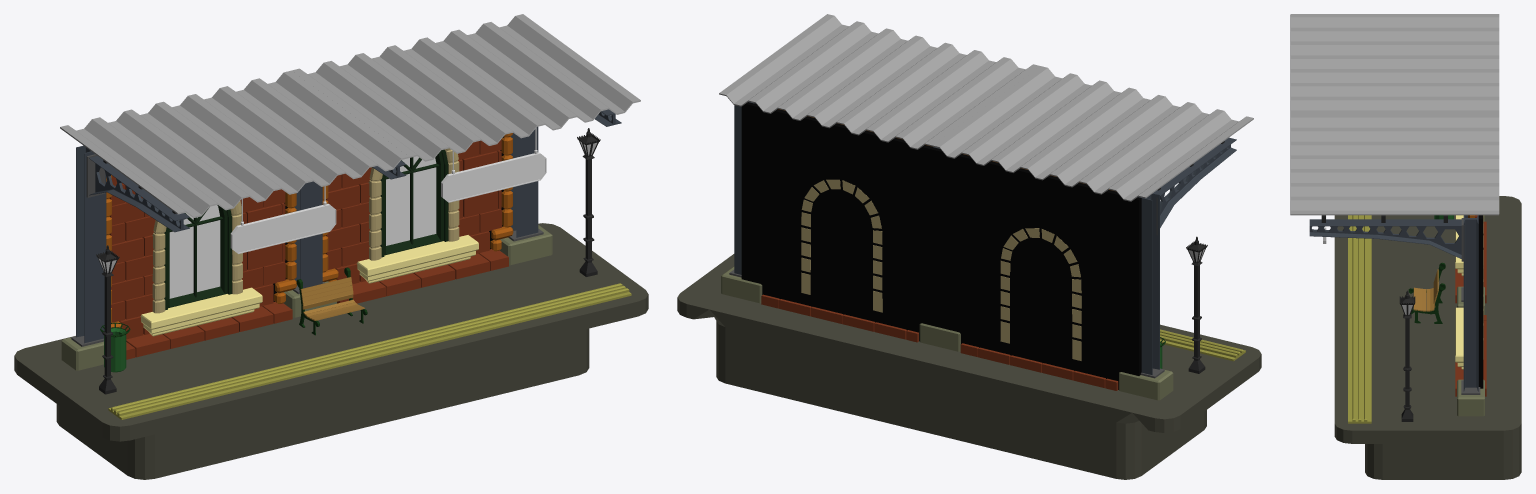
The model's file is istasyon_revize.fbx.
3 renders of one model, left to right at view 1: azimuth 30°, elevation 25°; view 2: azimuth 150°, elevation 25°; view 3: azimuth 270°, elevation 25°, orthographic. The views are drawn at different scales.
Visible parts, largest first — view 1: Plane.001, Plane, Cube, Cube.013, Cube.014, Cube.001, Cube.026, Plane.002, Cube.003, Cube.091, Cube.075, Cube.077 (+17 smaller); view 2: Cube.011, Cube.010, Cube.013, Plane.001, Plane, Cube, Cube.003, Cube.072, Cube.297, Cube.001, Cube.026, Cube.123 (+6 smaller); view 3: Cube, Plane, Plane.001, Cube.123, Cube.013, Plane.002, Cube.014, Cube.010, Cube.017, Cube.018, Cube.034, Cube.077 (+3 smaller).
Boxes of the visible parts, x1=… form: Plane.001: x1=60, y1=70, x2=409, y2=217; Plane: x1=292, y1=14, x2=640, y2=161; Cube: x1=14, y1=223, x2=637, y2=431; Cube.013: x1=56, y1=328, x2=589, y2=479; Cube.014: x1=95, y1=284, x2=648, y2=441; Cube.001: x1=109, y1=175, x2=292, y2=359; Cube.026: x1=326, y1=139, x2=508, y2=303; Plane.002: x1=108, y1=283, x2=631, y2=419; Cube.003: x1=71, y1=145, x2=189, y2=346; Cube.091: x1=169, y1=205, x2=220, y2=298; Cube.075: x1=386, y1=156, x2=436, y2=245; Cube.077: x1=356, y1=235, x2=478, y2=283; Cube.011: x1=940, y1=150, x2=1141, y2=389; Cube.010: x1=741, y1=102, x2=941, y2=341; Cube.013: x1=716, y1=321, x2=1206, y2=479; Plane.001: x1=932, y1=66, x2=1253, y2=201; Plane: x1=719, y1=14, x2=1039, y2=149; Cube: x1=677, y1=254, x2=1252, y2=432; Cube.003: x1=1138, y1=137, x2=1236, y2=378; Cube.072: x1=801, y1=179, x2=882, y2=312; Cube.297: x1=1000, y1=228, x2=1081, y2=360; Cube.001: x1=960, y1=343, x2=1118, y2=390; Cube.026: x1=761, y1=294, x2=918, y2=342; Cube.123: x1=729, y1=101, x2=755, y2=277; Cube: x1=1365, y1=196, x2=1521, y2=443; Plane: x1=1290, y1=114, x2=1499, y2=215; Plane.001: x1=1290, y1=14, x2=1499, y2=114; Cube.123: x1=1309, y1=215, x2=1480, y2=394; Cube.013: x1=1365, y1=437, x2=1521, y2=479; Plane.002: x1=1348, y1=215, x2=1371, y2=423; Cube.014: x1=1334, y1=215, x2=1364, y2=443; Cube.010: x1=1478, y1=215, x2=1483, y2=388; Cube.017: x1=1399, y1=290, x2=1415, y2=421; Cube.018: x1=1457, y1=379, x2=1484, y2=416; Cube.034: x1=1413, y1=269, x2=1438, y2=311; Cube.077: x1=1455, y1=307, x2=1463, y2=369.
Size of the model in its own units: 2350 by 1245 by 978.
